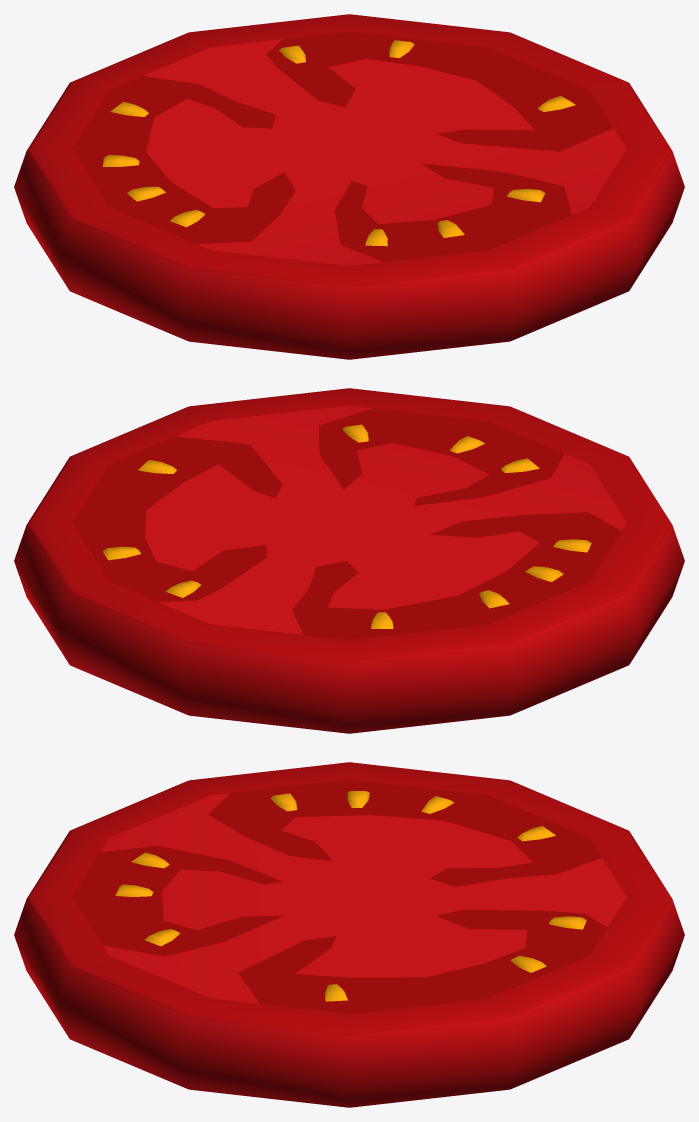
Rendered from Tomato_slice_red_Hotdog.fbx.
The picture shows the model from 3 angles, top to bottom: view 1: azimuth 30°, elevation 25°; view 2: azimuth 150°, elevation 25°; view 3: azimuth 270°, elevation 25°; orthographic projection.
Parts seen in each view (by area): view 1: Tomato_slice_red_Hotdog; view 2: Tomato_slice_red_Hotdog; view 3: Tomato_slice_red_Hotdog.
Boxes of the visible parts, x1,y1,x2,y2 form: Tomato_slice_red_Hotdog: [14, 14, 684, 359]; Tomato_slice_red_Hotdog: [14, 388, 684, 733]; Tomato_slice_red_Hotdog: [14, 762, 684, 1107].
Size of the model in its own units: 59.32 by 59.32 by 8.21.
